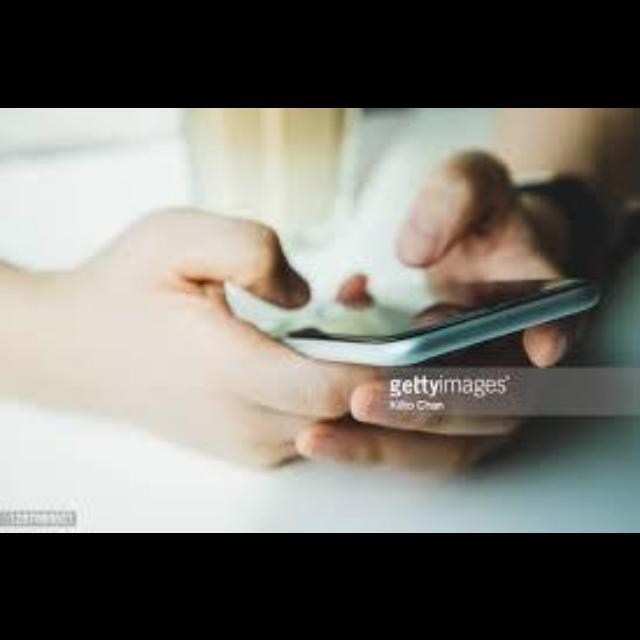PhoneUse: (202, 217, 608, 361)
